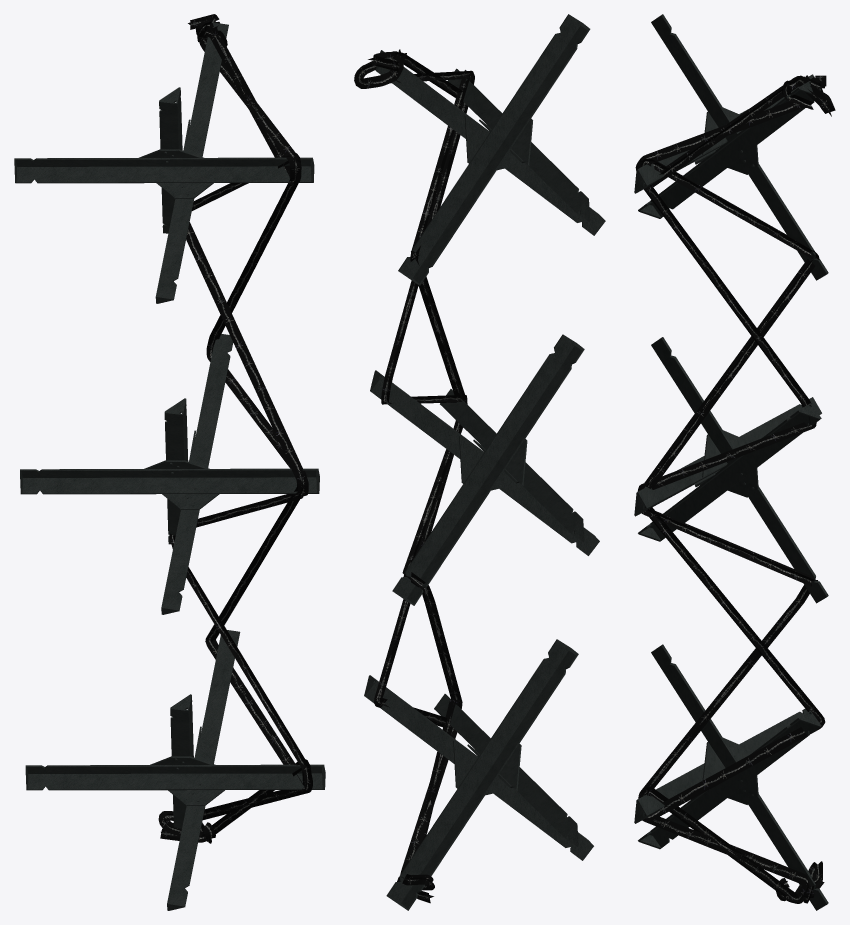
Rendered from WireObstacle1.obj.
The picture shows the model from 3 angles, left to right: view 1: azimuth 30°, elevation 25°; view 2: azimuth 150°, elevation 25°; view 3: azimuth 270°, elevation 25°; orthographic projection. The views are drawn at different scales.
Parts seen in each view (by area): view 1: Object_8, Object_10, Object_6, Object_12, Object_4; view 2: Object_8, Object_10, Object_6, Object_12, Object_4; view 3: Object_12, Object_4, Object_8, Object_10, Object_6.
Part boxes in pixels (x1,y1,x2,y2): Object_8: [20, 334, 319, 614]; Object_10: [25, 630, 325, 910]; Object_6: [14, 22, 314, 303]; Object_12: [169, 14, 312, 843]; Object_4: [158, 25, 311, 842]; Object_8: [370, 334, 599, 605]; Object_10: [364, 639, 593, 910]; Object_6: [375, 14, 605, 285]; Object_12: [354, 51, 473, 874]; Object_4: [374, 49, 474, 903]; Object_12: [638, 75, 835, 903]; Object_4: [635, 76, 825, 903]; Object_8: [634, 337, 828, 603]; Object_10: [634, 644, 828, 910]; Object_6: [634, 14, 828, 280].
Bounding box in the file's own units: 1.12 × 3.86 × 0.8258.
Materials: 2 (2 with a texture image).
